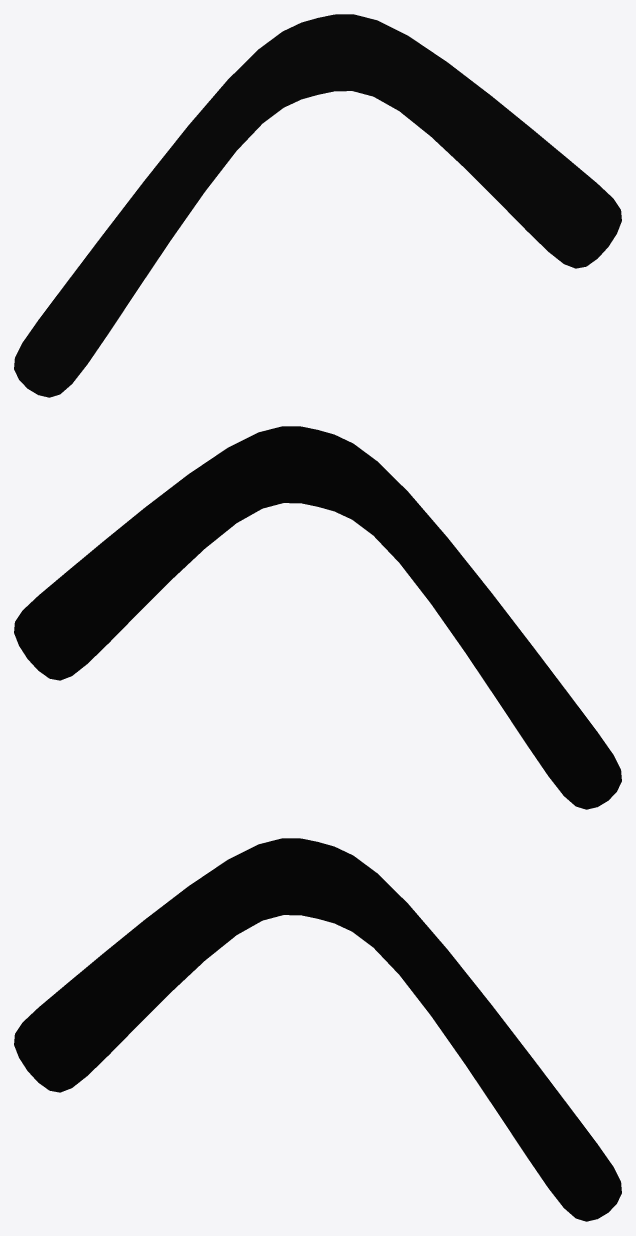
The model's file is 28-Cute-Big-Eyes-Face-Customizable-mouth.glb.
3 views of the same model, one above another, from view 1: azimuth 30°, elevation 25°; view 2: azimuth 150°, elevation 25°; view 3: azimuth 330°, elevation 25° (orthographic).
Visible parts, largest first — view 1: 28-Cute-Big-Eyes-Face-Customizable-mouth; view 2: 28-Cute-Big-Eyes-Face-Customizable-mouth; view 3: 28-Cute-Big-Eyes-Face-Customizable-mouth.
Part boxes in pixels (<box>): 28-Cute-Big-Eyes-Face-Customizable-mouth: <box>14,14,621,397</box>; 28-Cute-Big-Eyes-Face-Customizable-mouth: <box>14,426,621,809</box>; 28-Cute-Big-Eyes-Face-Customizable-mouth: <box>14,838,621,1221</box>.
Size of the model in its own units: 0.0945 by 0.0467 by 1.79e-07.
Materials: 1 (1 with a texture image).
